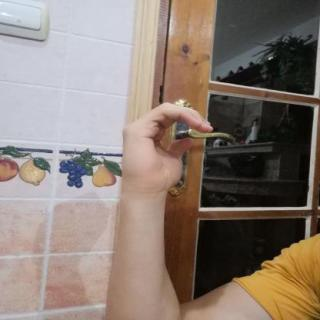JEEM: (112, 97, 220, 200)
